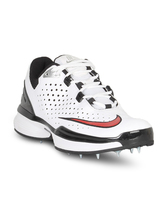shoes: (13, 52, 156, 155)
